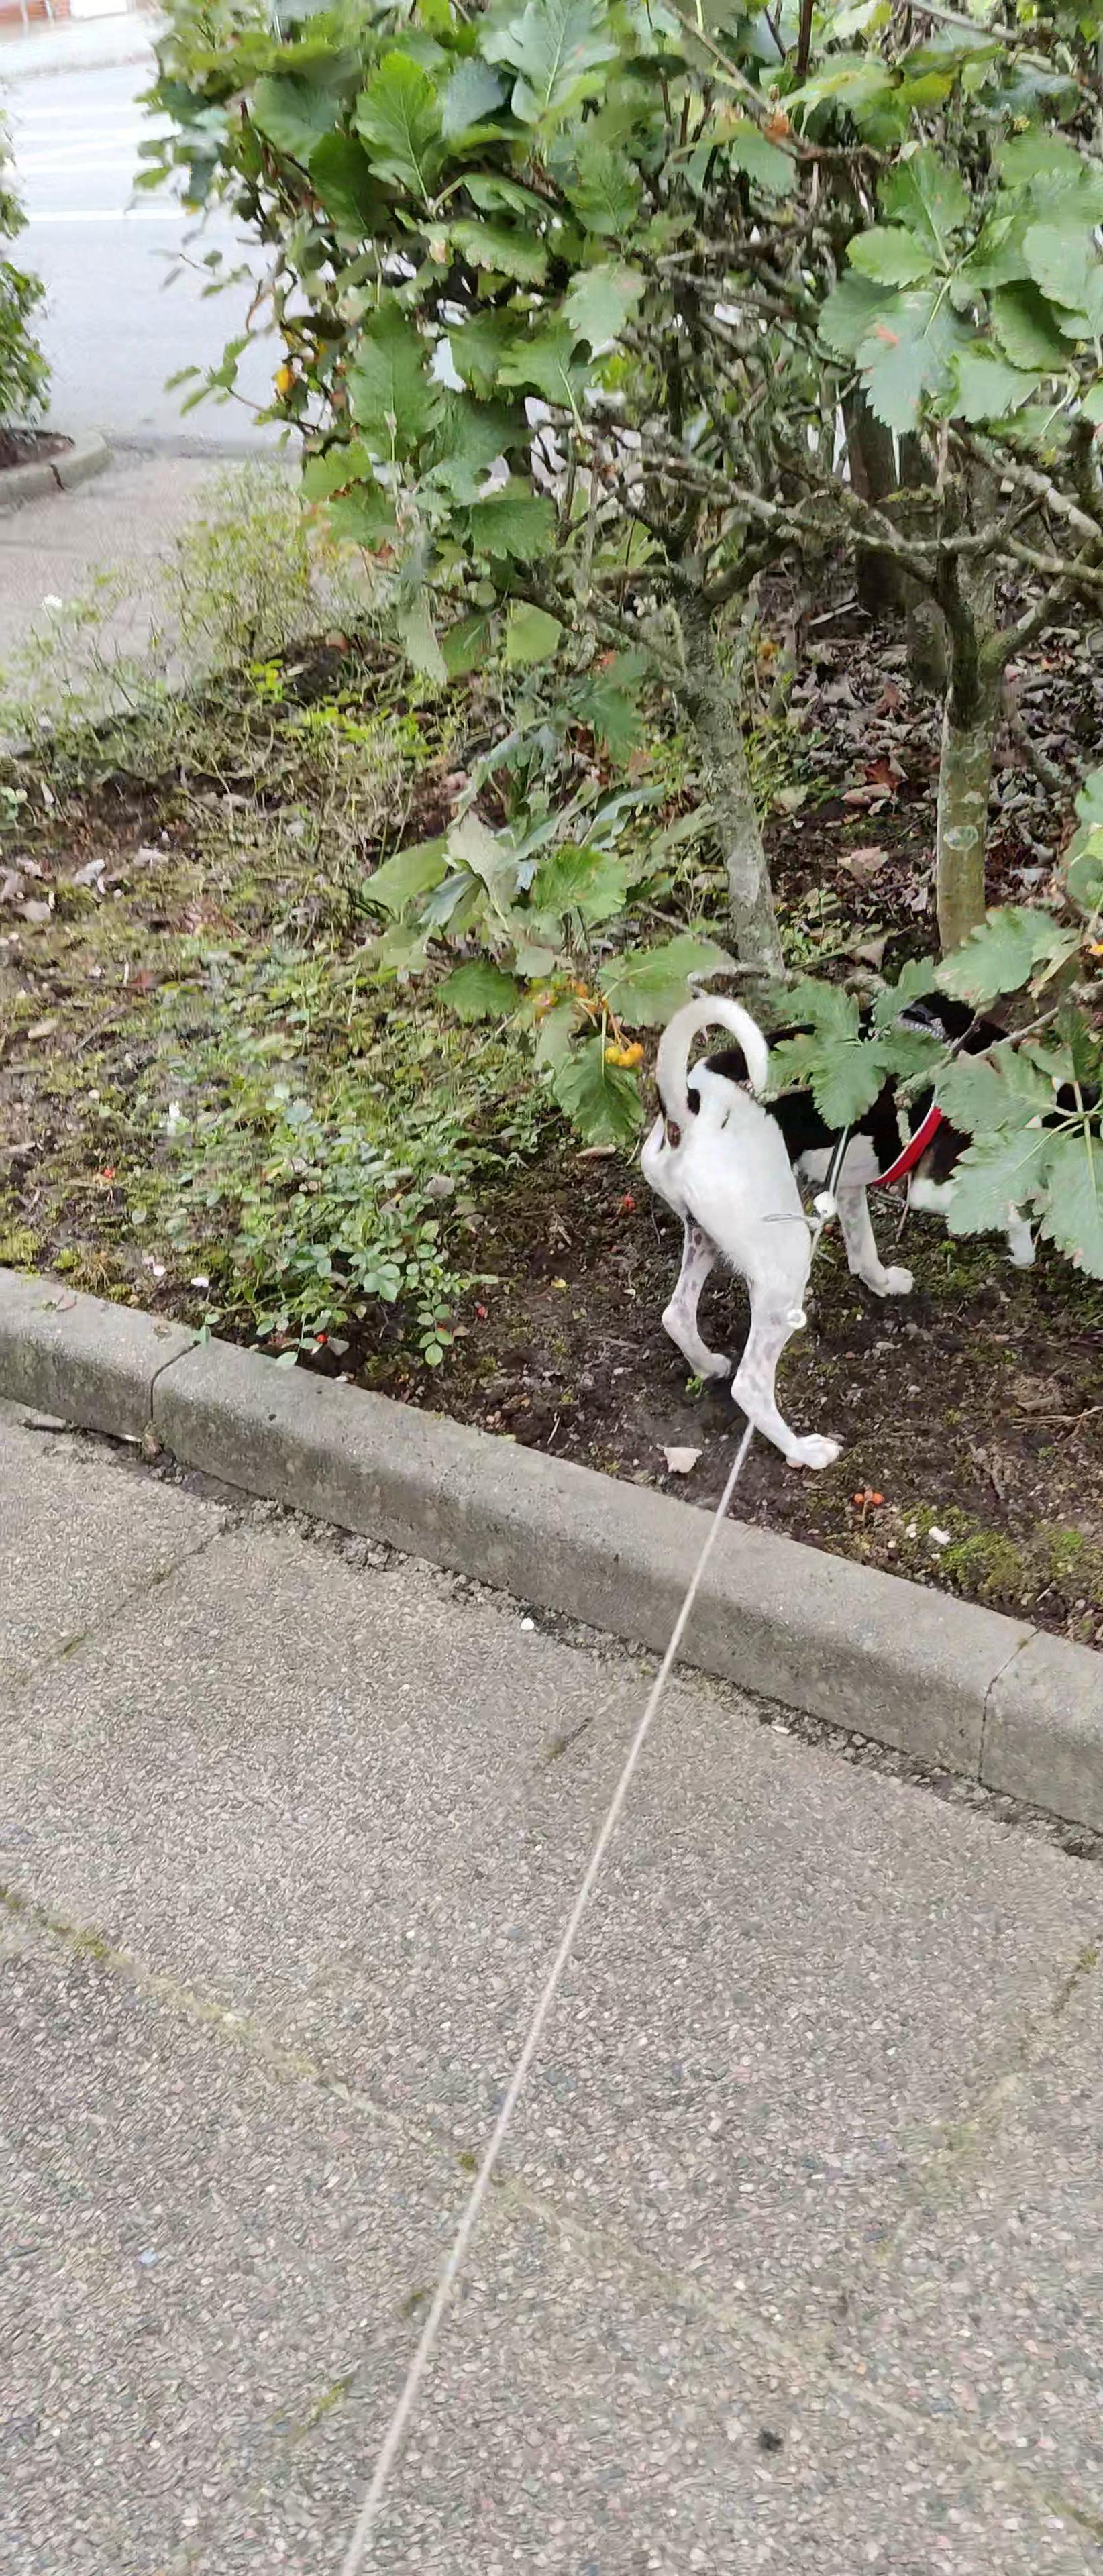Dog: (625, 969, 1103, 1479)
